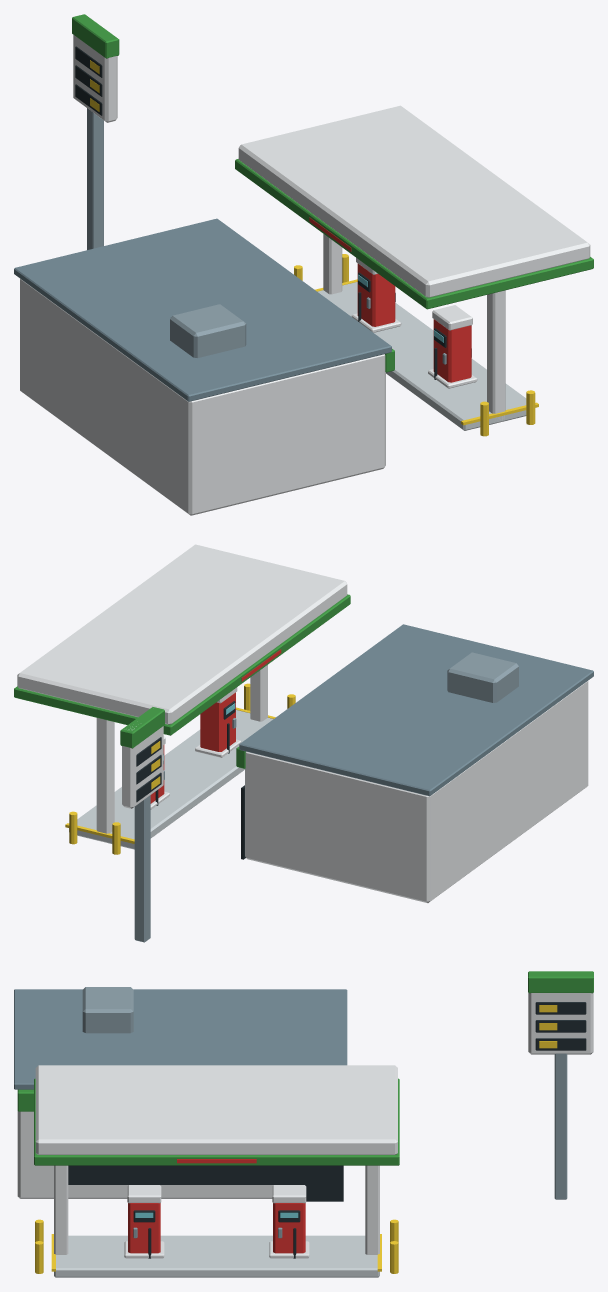
Rendered from posto.glb.
The picture shows the model from 3 angles, top to bottom: view 1: azimuth 30°, elevation 25°; view 2: azimuth 150°, elevation 25°; view 3: azimuth 270°, elevation 25°; orthographic projection. The views are drawn at different scales.
Visible parts, largest first — view 1: posto; view 2: posto; view 3: posto.
Boxes of the visible parts, left/top/right/bottom form: posto: left=14, top=14, right=593, bottom=515; posto: left=14, top=544, right=593, bottom=942; posto: left=14, top=971, right=593, bottom=1277.
Bounding box in the file's own units: 12.66 × 6.8 × 16.01.
